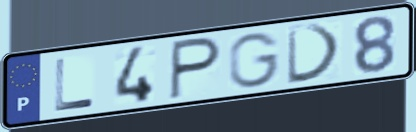4: (113, 44, 158, 105)
8: (350, 14, 398, 76)
D: (285, 22, 345, 87)
G: (226, 30, 283, 91)
L: (53, 56, 98, 114)
P: (166, 34, 224, 102)
